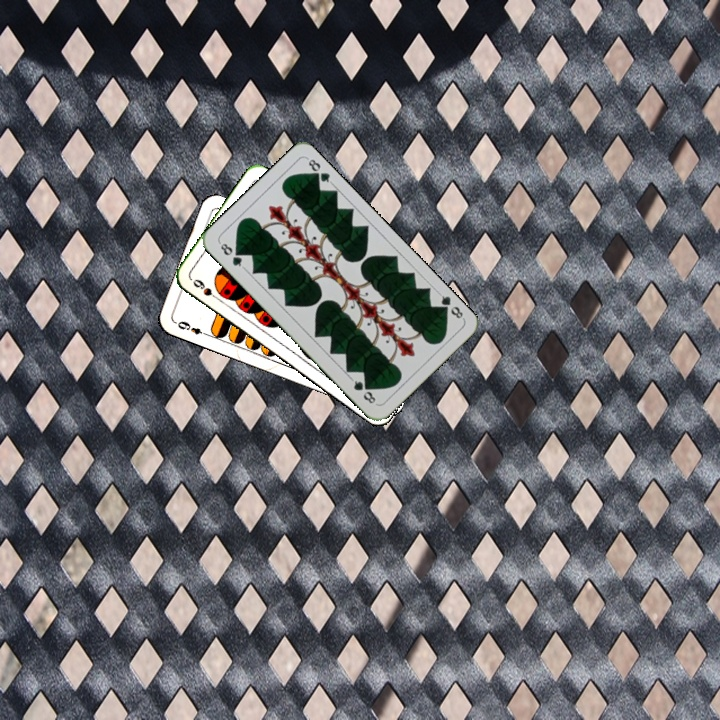E9: (173, 317, 211, 339)
G8: (215, 238, 247, 271), (434, 289, 466, 321)
S9: (189, 275, 223, 304)
